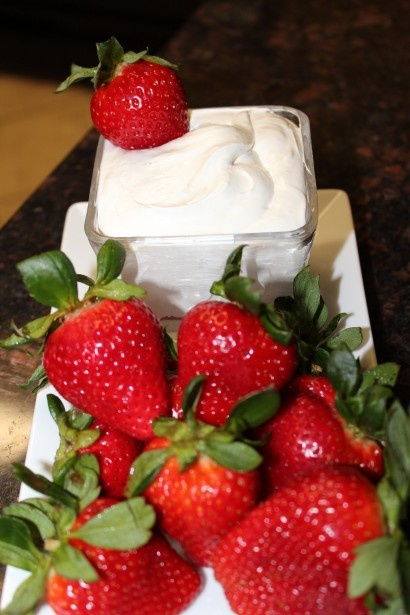background: (0, 34, 263, 590)
